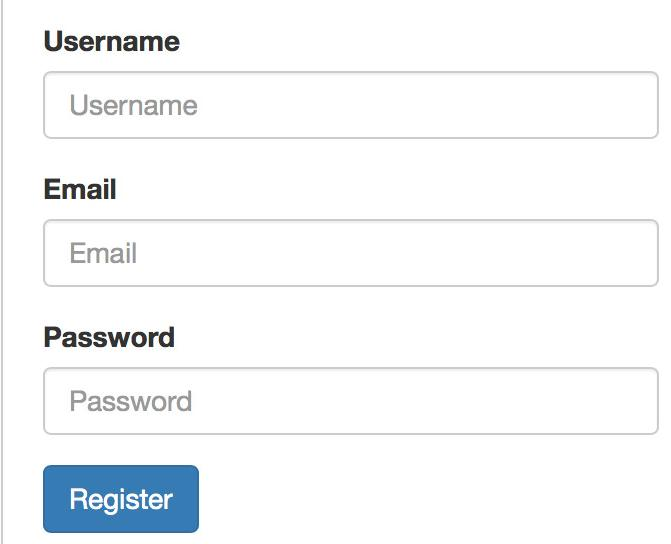button: (41, 463, 200, 535)
field: (40, 68, 660, 142), (40, 365, 663, 438), (39, 217, 661, 289)
field_with_label: (37, 325, 664, 440), (38, 31, 662, 144), (37, 177, 663, 289)
